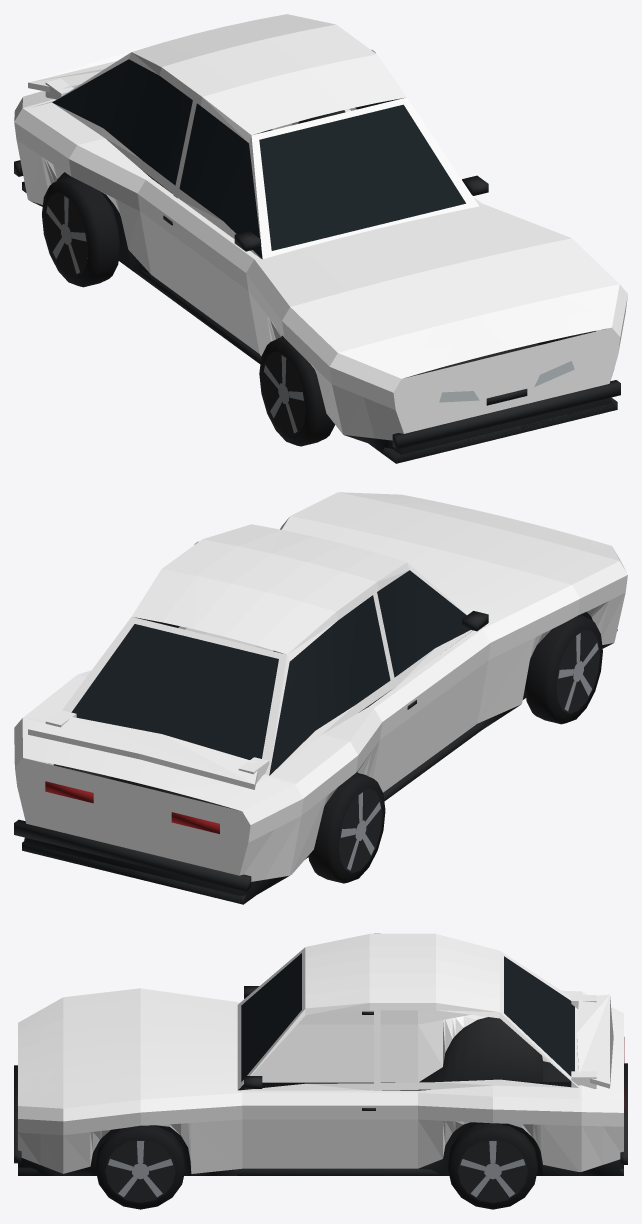
Rendered from tridella_isobara.glb.
3 views of the same model, one above another, from view 1: azimuth 30°, elevation 25°; view 2: azimuth 150°, elevation 25°; view 3: azimuth 270°, elevation 25° (orthographic). The views are drawn at different scales.
Visible parts, largest first — view 1: Body_Paint, Body_Details, Mount_RearLeft_Wheel_Details, Mount_FrontLeft_Wheel_Details; view 2: Body_Paint, Body_Details, Mount_FrontLeft_Wheel_Details, Mount_RearLeft_Wheel_Details; view 3: Body_Paint, Body_Details, Mount_RearRight_Wheel_Details, Mount_FrontRight_Wheel_Details.
Part boxes in pixels (x1,y1,x2,y2): Body_Paint: (14,14,627,440); Body_Details: (14,59,620,463); Mount_RearLeft_Wheel_Details: (42,176,120,287); Mount_FrontLeft_Wheel_Details: (259,337,334,446); Body_Paint: (14,492,627,881); Body_Details: (14,570,617,904); Mount_FrontLeft_Wheel_Details: (525,615,602,724); Mount_RearLeft_Wheel_Details: (308,772,385,883); Body_Paint: (18,933,623,1173); Body_Details: (14,953,627,1175); Mount_RearRight_Wheel_Details: (448,1123,537,1209); Mount_FrontRight_Wheel_Details: (95,1125,185,1209).
Size of the model in its own units: 1.98 by 1.47 by 4.36.
2 materials, 1 textured.
